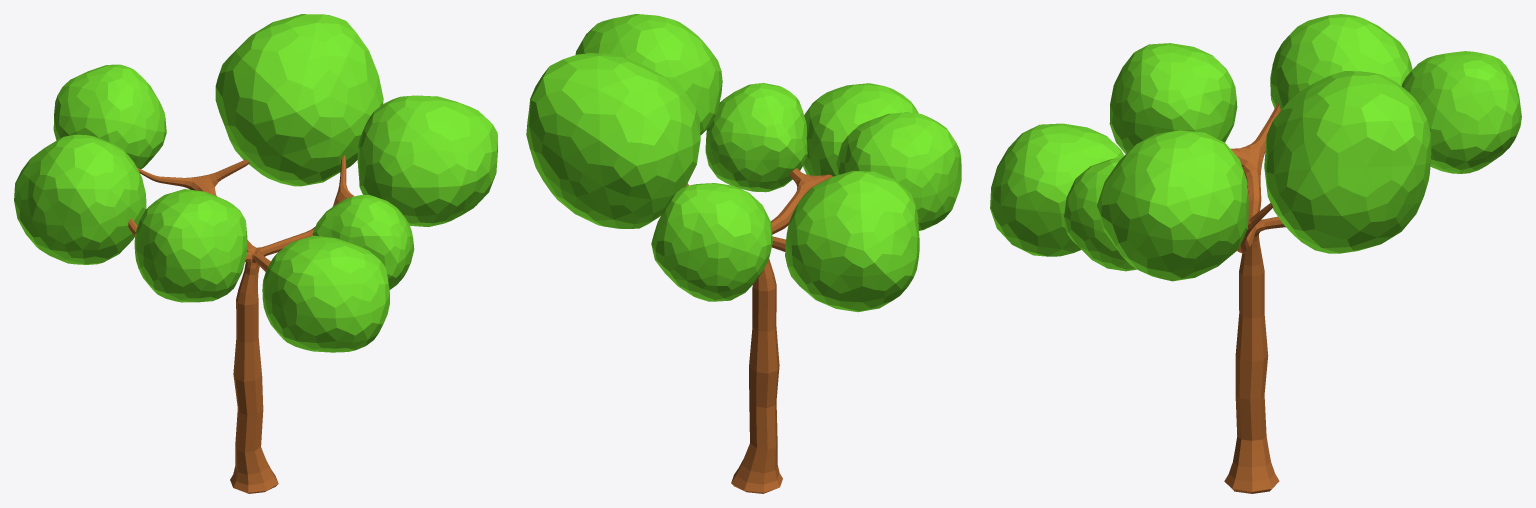
The model's file is PuuV2_singleobject.fbx.
The picture shows the model from 3 angles, left to right: view 1: azimuth 30°, elevation 25°; view 2: azimuth 150°, elevation 25°; view 3: azimuth 270°, elevation 25°; orthographic projection. The views are drawn at different scales.
Visible parts, largest first — view 1: Plane; view 2: Plane; view 3: Plane.
Part boxes in pixels (x1,y1,x2,y2): Plane: [14, 14, 497, 493]; Plane: [526, 14, 961, 493]; Plane: [990, 14, 1521, 493].
Bounding box in the file's own units: 971 × 971 × 1025.
